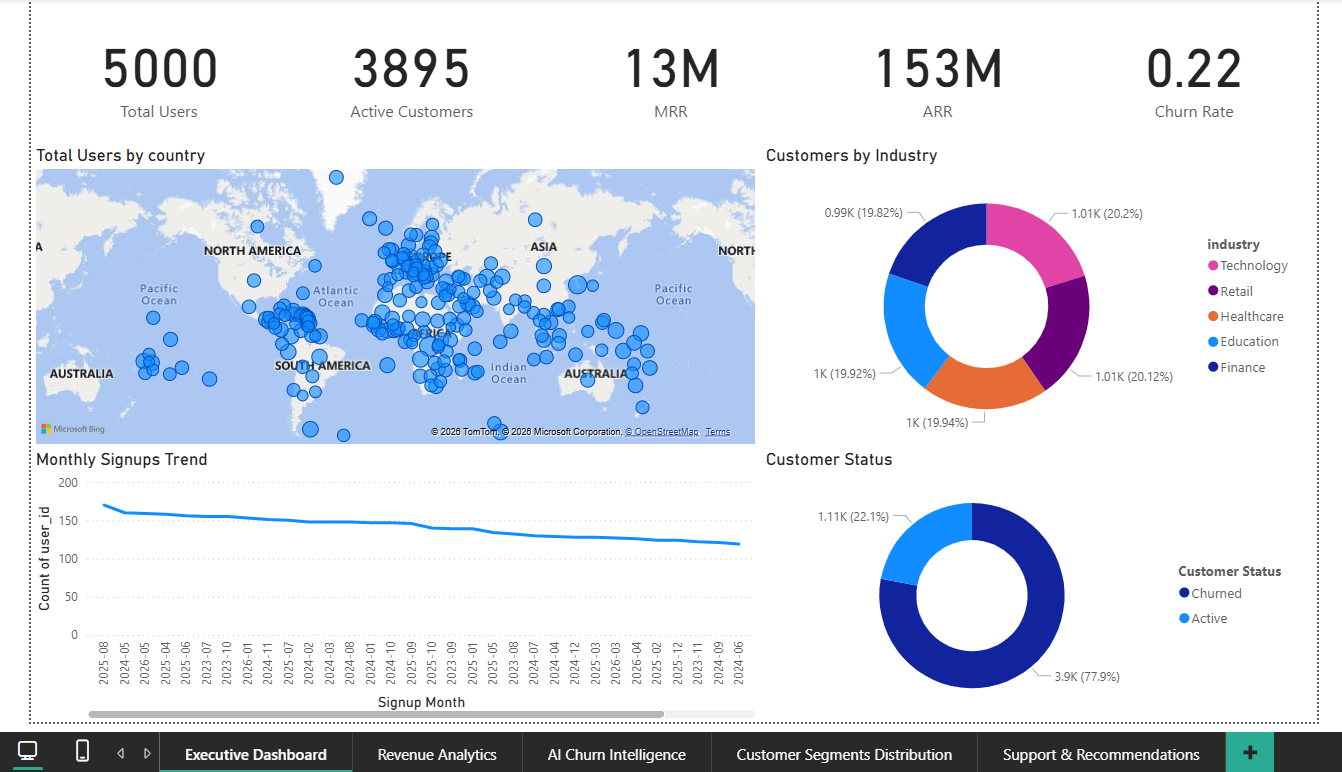

Layout of this report page (visuals, bound fields, positions):
{"tool":"powerbi","page":{"name":"Executive Dashboard","canvas":[1280,720],"ordinal":0},"visuals":[{"type":"card","fields":{"Values":["Dim_users.Total Users"]},"box":[0,0,255.2,145.5],"z":0},{"type":"card","fields":{"Values":["Dim_users.MRR"]},"box":[503.6,0,266.2,145.5],"z":1000},{"type":"card","fields":{"Values":["Dim_users.ARR"]},"box":[769.8,0,264.8,145.5],"z":2000},{"type":"card","fields":{"Values":["Dim_users.Churn Rate"]},"box":[1034.7,0,245.6,145.5],"z":3000},{"type":"card","fields":{"Values":["Dim_users.Active Customers"]},"box":[255.2,0,248.4,145.5],"z":4000},{"type":"donutChart","title":"Customers by Industry","fields":{"Category":["Dim_users.industry"],"Y":["CountNonNull(Dim_users.user_id)"]},"box":[725.9,145.5,539.3,301.9],"z":6000},{"type":"donutChart","title":"Customer Status","fields":{"Category":["fact_subscriptions.Customer Status"],"Y":["CountNonNull(fact_subscriptions.subscription_id)"]},"box":[725.9,447.3,539.3,273.1],"z":7000},{"type":"lineChart","title":"Monthly Signups Trend","fields":{"Category":["Dim_users.Signup Month"],"Y":["CountNonNull(Dim_users.user_id)"]},"box":[0,447.3,725.9,273.1],"z":8000},{"type":"map","fields":{"Category":["Dim_users.country"],"Size":["Dim_users.Total Users"]},"box":[0,145.5,725.9,301.9],"z":9000}]}

Visuals, with their boxes on the page's 1280x720 design canvas (x1, y1, x2, y2). These are canvas units, not pixel positions in the 1342x772 screenshot, which may show the page scaled, cropped or inside an application window:
card - Dim_users.Total Users: bbox=[0, 0, 255, 146]
card - Dim_users.MRR: bbox=[504, 0, 770, 146]
card - Dim_users.ARR: bbox=[770, 0, 1035, 146]
card - Dim_users.Churn Rate: bbox=[1035, 0, 1280, 146]
card - Dim_users.Active Customers: bbox=[255, 0, 504, 146]
"Customers by Industry" donutChart: bbox=[726, 146, 1265, 447]
"Customer Status" donutChart: bbox=[726, 447, 1265, 720]
"Monthly Signups Trend" lineChart: bbox=[0, 447, 726, 720]
map - Dim_users.country x Dim_users.Total Users: bbox=[0, 146, 726, 447]
